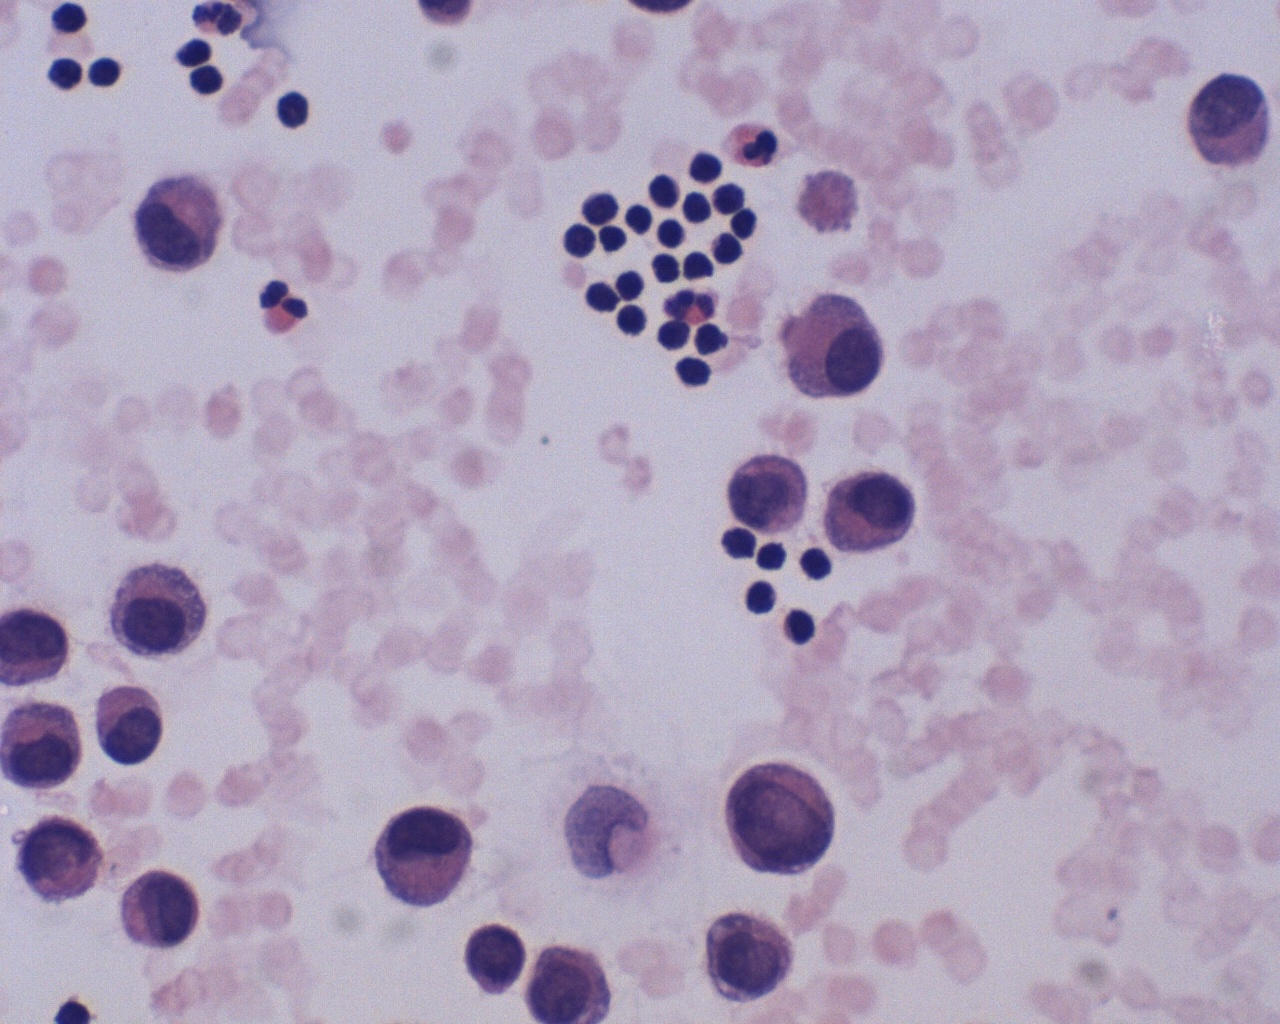ab: (715, 755, 850, 880), (692, 893, 813, 1011), (104, 560, 234, 662), (121, 163, 240, 274), (1168, 64, 1277, 174), (819, 462, 929, 564), (14, 810, 116, 910), (110, 861, 212, 960), (1, 695, 91, 800), (724, 441, 818, 541), (523, 942, 621, 1024), (90, 680, 168, 768), (457, 920, 531, 995)
lymph: (271, 88, 321, 137), (557, 219, 601, 265), (85, 51, 120, 101), (683, 243, 721, 289), (674, 351, 716, 390), (779, 607, 818, 646)
meso: (769, 286, 898, 408), (371, 802, 472, 910)
neutro: (718, 118, 785, 174), (257, 276, 315, 340)
